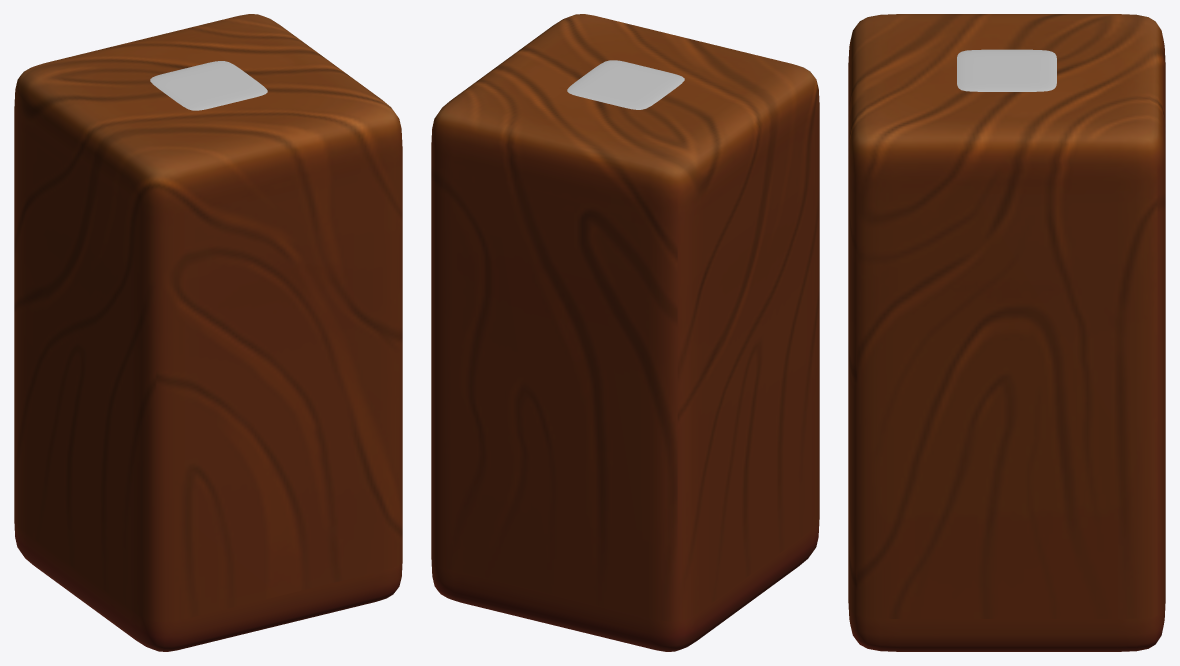
The model's file is wall_1_2.fbx.
The picture shows the model from 3 angles, left to right: view 1: azimuth 30°, elevation 25°; view 2: azimuth 150°, elevation 25°; view 3: azimuth 270°, elevation 25°; orthographic projection. The views are drawn at different scales.
Visible parts, largest first — view 1: wall_1, lego_point; view 2: wall_1, lego_point; view 3: wall_1, lego_point.
Part boxes in pixels (x1=…): wall_1: x1=14, y1=14, x2=402, y2=651; lego_point: x1=150, y1=61, x2=267, y2=110; wall_1: x1=431, y1=14, x2=819, y2=651; lego_point: x1=567, y1=60, x2=684, y2=109; wall_1: x1=848, y1=14, x2=1165, y2=651; lego_point: x1=957, y1=49, x2=1056, y2=91.
Bounding box in the file's own units: 1.02 × 1.86 × 1.02.
